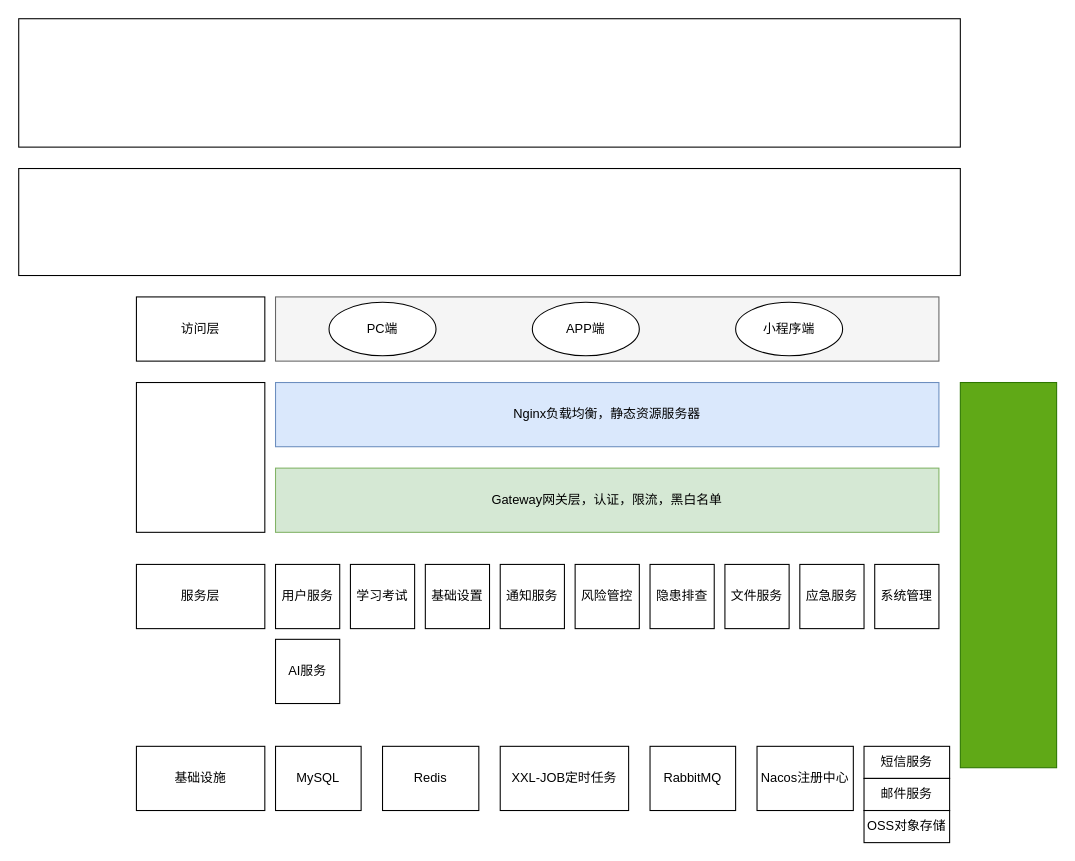
Image size: 1075x861. Some labels were removed from this diagram. The shapes that lost their labels are listed below. From the top down, each one's box as (x1, y1, x2, y2) in pixels, then its label:
(18, 18, 960, 147): 平台已入驻企业达2000家 系统注册用户2000*100 = 20万 日活用户 5万
(18, 167, 960, 276): 接入边缘计算盒子 2000*300 = 60万摄像头 边缘计算 = 60万 / 64 = 9000台边缘计算盒子
(135, 381, 265, 532): 接入/网关
(959, 381, 1057, 768): Promethues Grafana
